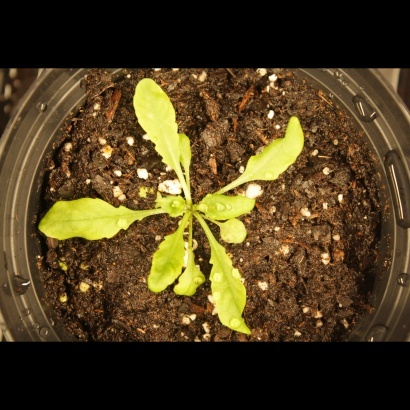leaf: (31, 194, 148, 245), (201, 227, 253, 340), (234, 110, 310, 184), (131, 67, 183, 175), (146, 223, 186, 295), (192, 192, 259, 225), (174, 246, 208, 299), (220, 217, 255, 253), (153, 186, 189, 220), (169, 128, 198, 170)
